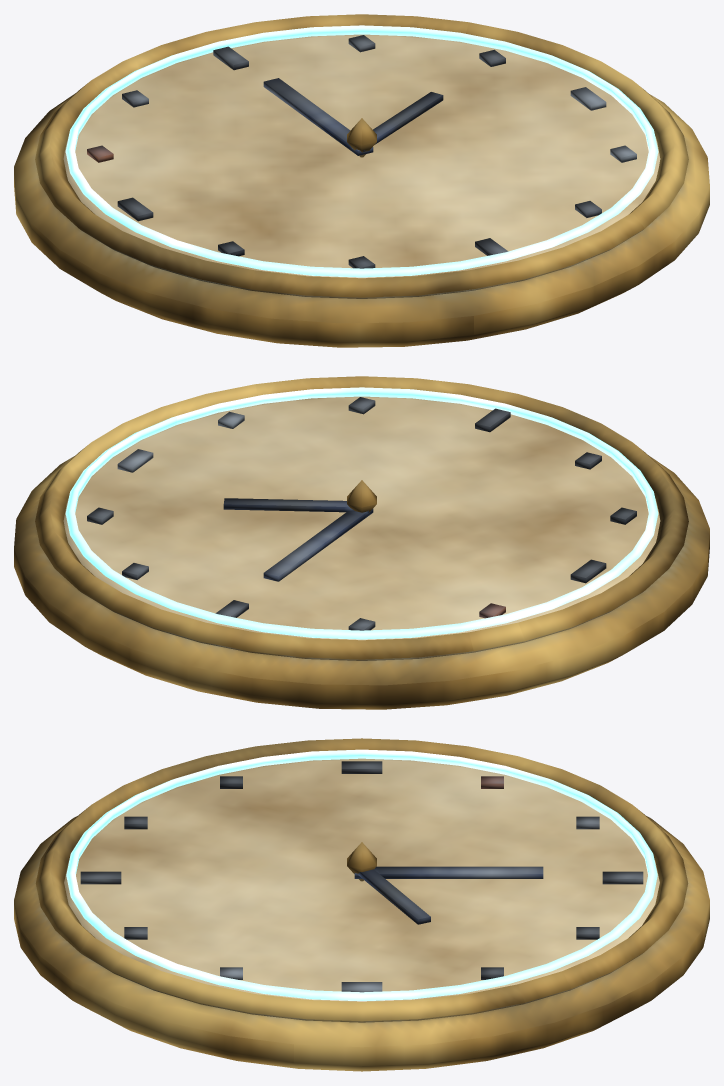
Rendered from ClockfaceBuckler.fbx.
3 renders of one model, top to bottom at view 1: azimuth 30°, elevation 25°; view 2: azimuth 150°, elevation 25°; view 3: azimuth 270°, elevation 25°, orthographic.
Parts seen in each view (by area): view 1: ClockfaceBuckler; view 2: ClockfaceBuckler; view 3: ClockfaceBuckler.
Part boxes in pixels (box(x1,y1,x2,y2)): ClockfaceBuckler: box(14, 14, 709, 347); ClockfaceBuckler: box(14, 376, 709, 709); ClockfaceBuckler: box(14, 738, 709, 1071).
Size of the model in its own units: 0.48 by 0.105 by 0.48.
